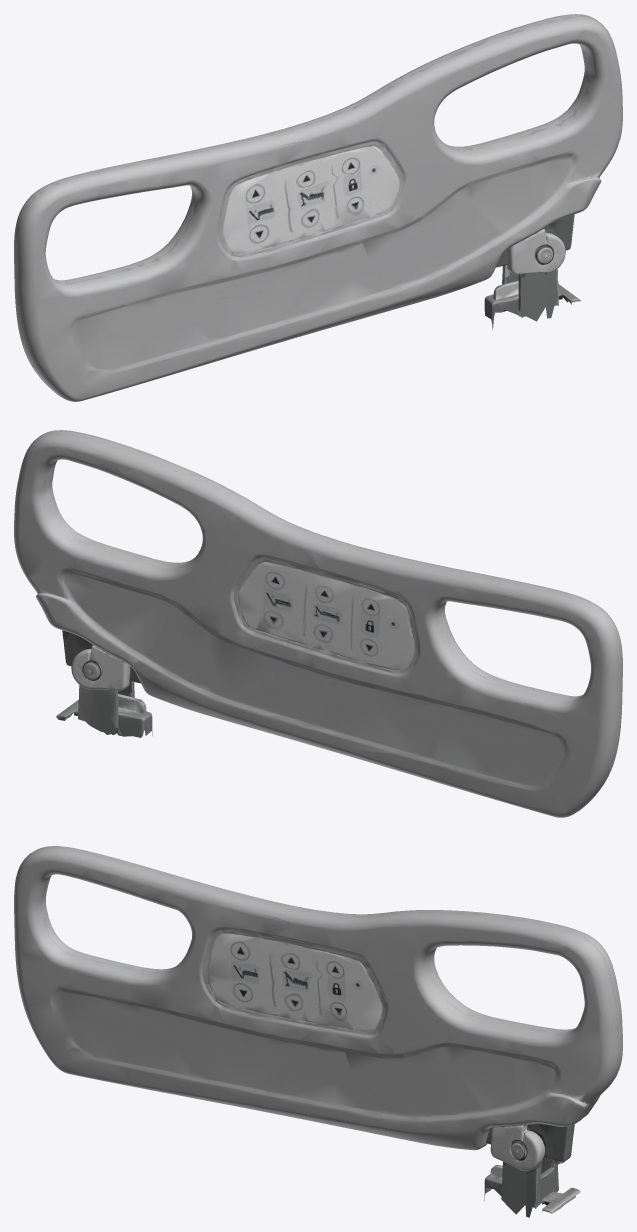
The model's file is rail.glb.
The picture shows the model from 3 angles, top to bottom: view 1: azimuth 30°, elevation 25°; view 2: azimuth 150°, elevation 25°; view 3: azimuth 330°, elevation 25°; orthographic projection.
Size of the model in its own units: 1.9 by 0.8806 by 0.161.
Materials: 1 (1 with a texture image).
